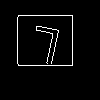L: (25, 25, 62, 76)
